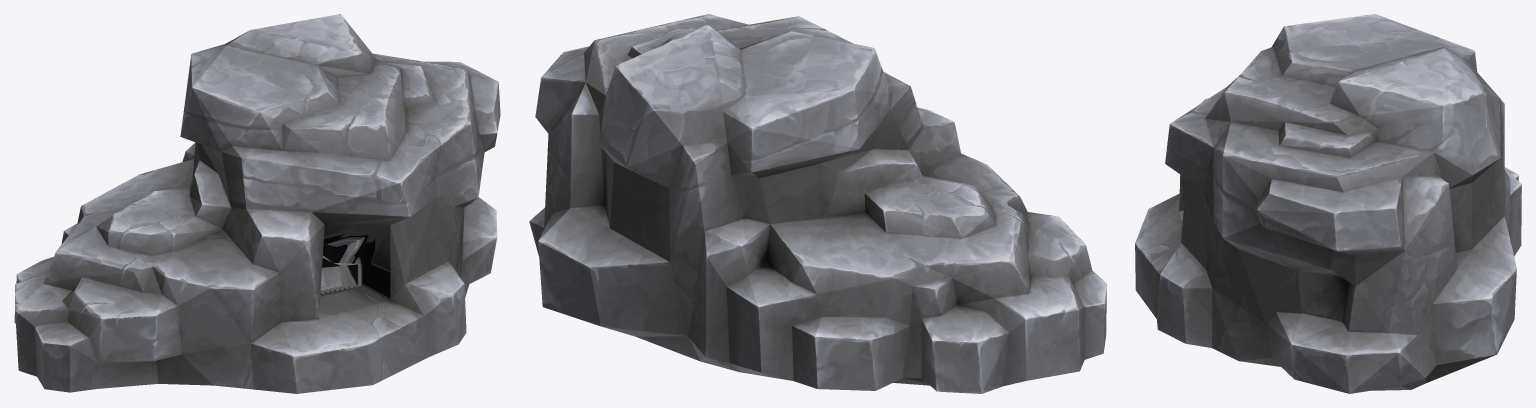
File: PrototypeOneRock3.fbx
3 renders of one model, left to right at view 1: azimuth 30°, elevation 25°; view 2: azimuth 150°, elevation 25°; view 3: azimuth 270°, elevation 25°, orthographic. The views are drawn at different scales.
Parts seen in each view (by area): view 1: Rock3; view 2: Rock3; view 3: Rock3.
Boxes of the visible parts, bbox=[...] form: Rock3: bbox=[14, 14, 500, 393]; Rock3: bbox=[529, 14, 1106, 393]; Rock3: bbox=[1135, 14, 1521, 393].
Size of the model in its own units: 15501 by 7647 by 10262.
